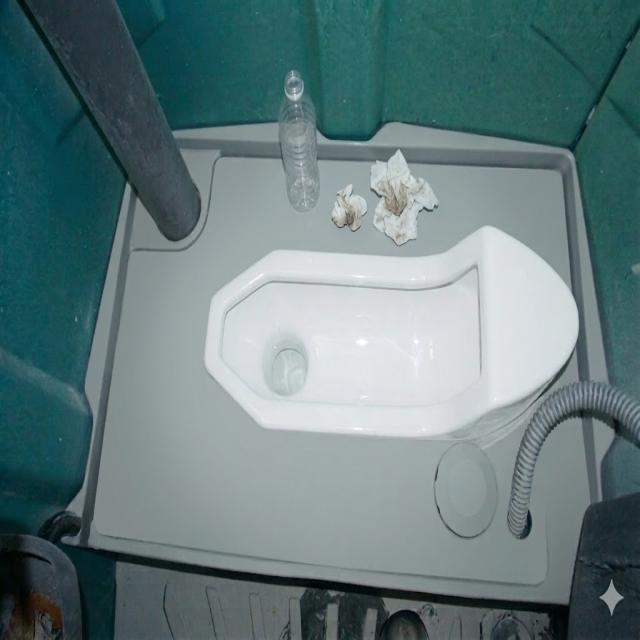garbage: (265, 71, 441, 246)
